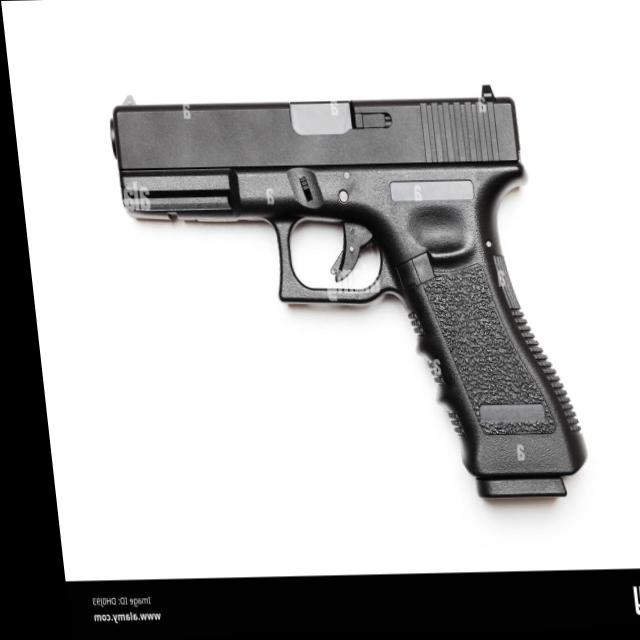handgun: (86, 77, 597, 523)
